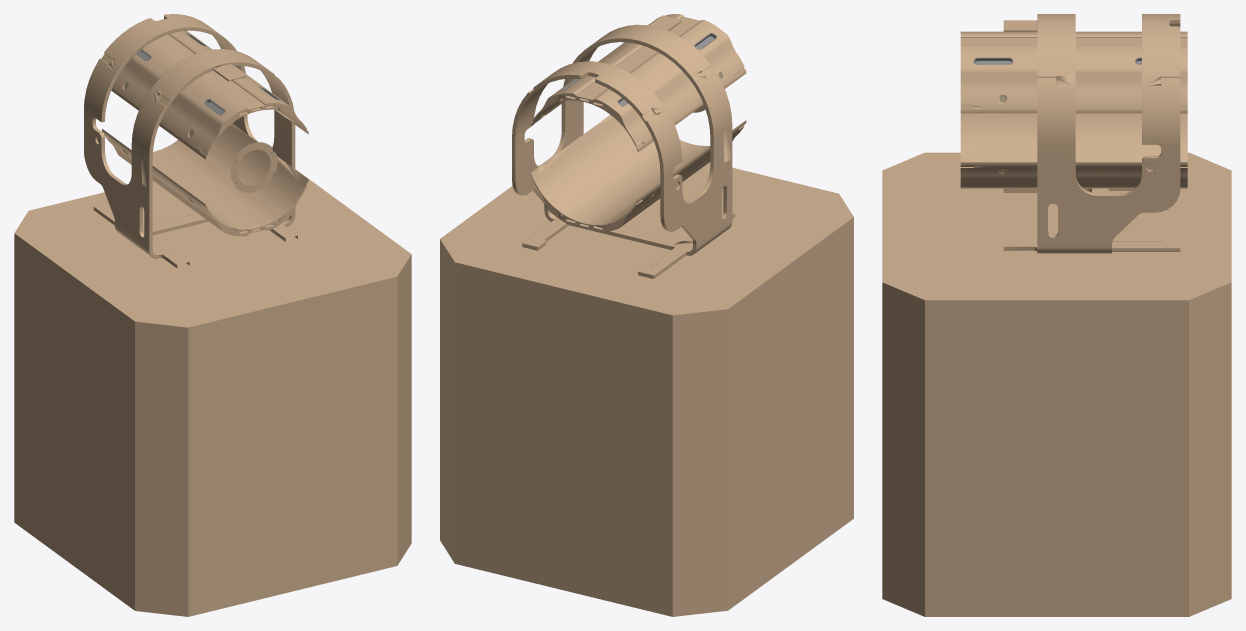
The model's file is engine1.fbx.
The picture shows the model from 3 angles, left to right: view 1: azimuth 30°, elevation 25°; view 2: azimuth 150°, elevation 25°; view 3: azimuth 270°, elevation 25°; orthographic projection. The views are drawn at different scales.
Parts seen in each view (by area): view 1: engine1; view 2: engine1; view 3: engine1.
Boxes of the visible parts, box(x1,y1,x2,y2) form: engine1: box(14, 14, 411, 616); engine1: box(440, 14, 853, 616); engine1: box(882, 14, 1231, 616).
Size of the model in its own units: 78.74 by 129 by 78.74.
